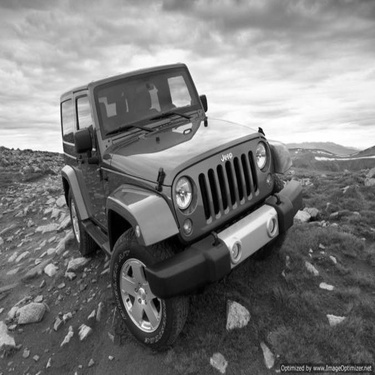car: (47, 51, 311, 354)
